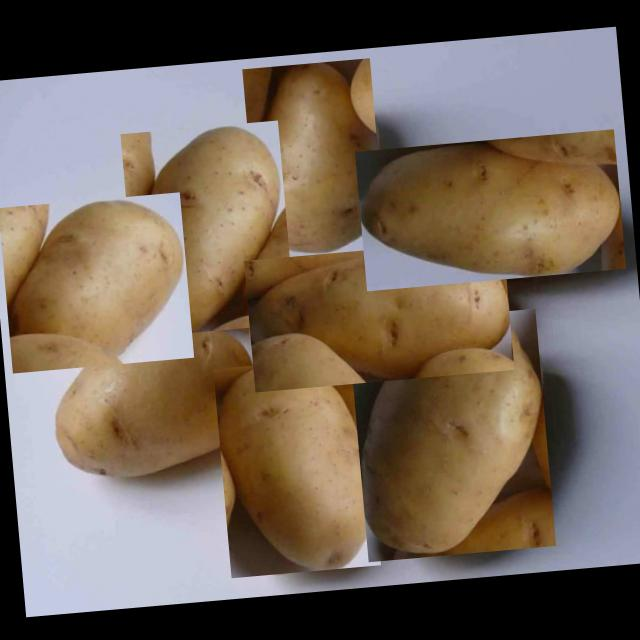Potato: (346, 308, 554, 560), (353, 128, 624, 290), (242, 237, 513, 391), (119, 119, 294, 336), (44, 313, 264, 484), (212, 354, 380, 576), (0, 191, 193, 372), (241, 57, 385, 261)
